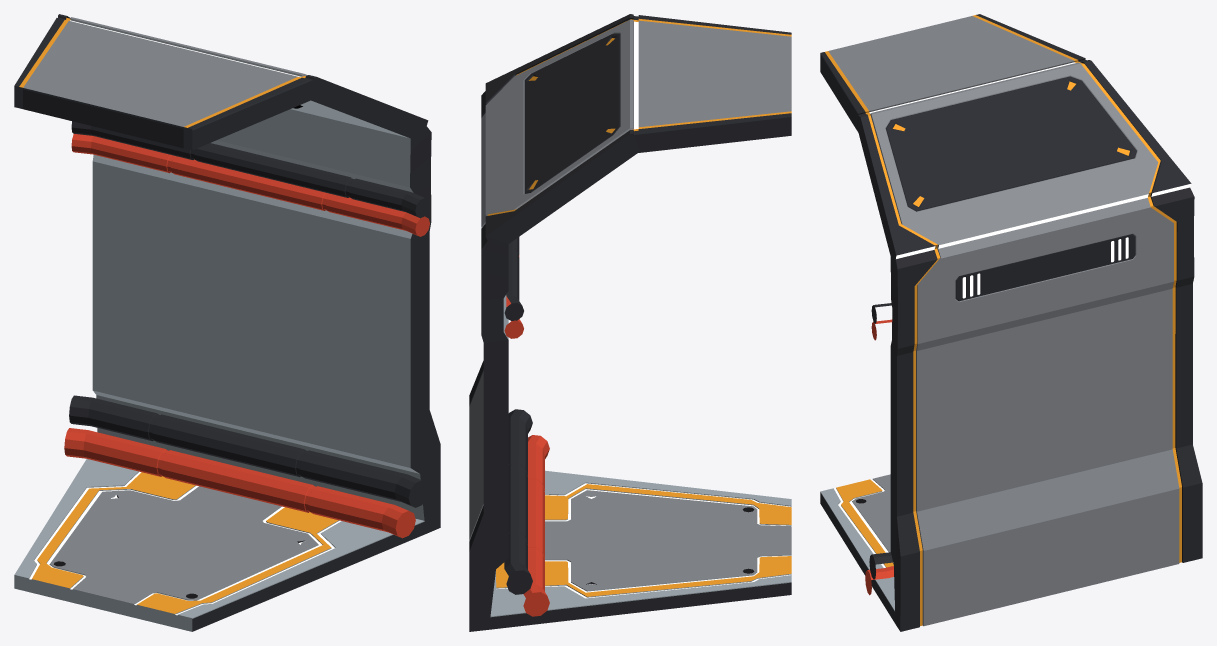
The model's file is SM_Wall_For_Type_01.glb.
The picture shows the model from 3 angles, left to right: view 1: azimuth 30°, elevation 25°; view 2: azimuth 150°, elevation 25°; view 3: azimuth 270°, elevation 25°; orthographic projection. The views are drawn at different scales.
Parts seen in each view (by area): view 1: SM_Wall_For_Type_01; view 2: SM_Wall_For_Type_01; view 3: SM_Wall_For_Type_01.
Part boxes in pixels (x1,y1,x2,y2): SM_Wall_For_Type_01: [14, 14, 440, 631]; SM_Wall_For_Type_01: [469, 14, 791, 631]; SM_Wall_For_Type_01: [820, 14, 1202, 631].
Size of the model in its own units: 4.36 by 5.49 by 4.21.
2 materials, 1 textured.
